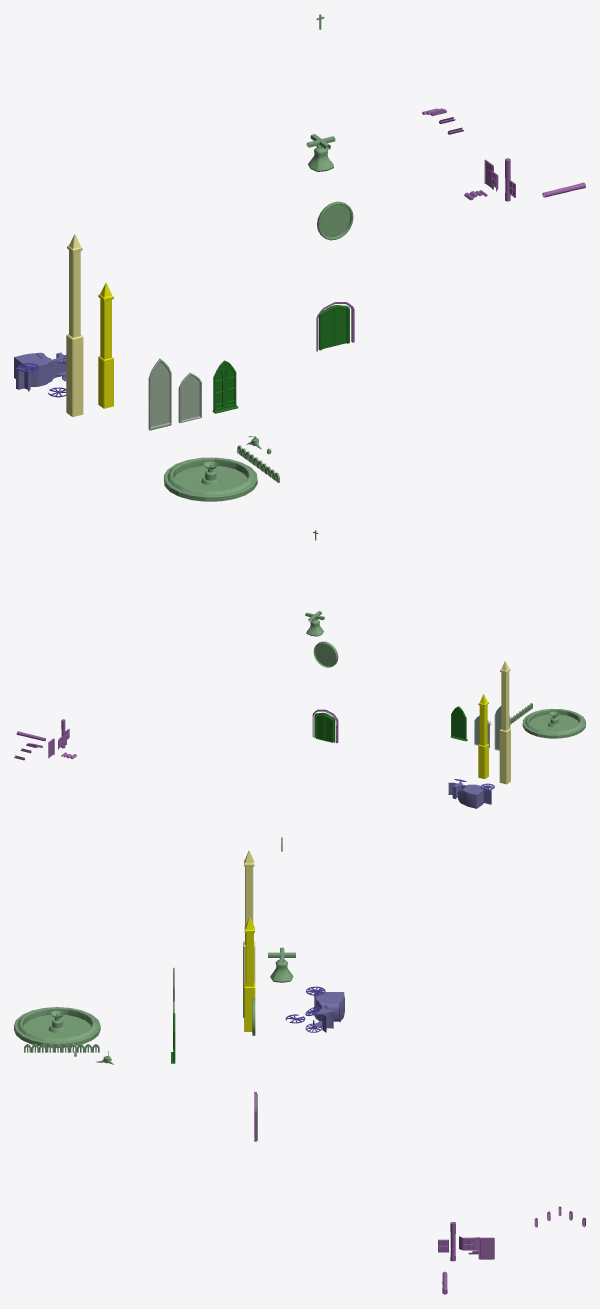
The model's file is Assets.fbx.
The picture shows the model from 3 angles, top to bottom: view 1: azimuth 30°, elevation 25°; view 2: azimuth 150°, elevation 25°; view 3: azimuth 270°, elevation 25°; orthographic projection. The views are drawn at different scales.
Visible parts, largest first — view 1: Fountain, Big_Pillar, Pillar_Small, Curch_window4, Body, ChurchClock, Curch_windowSmallStainedGlass, Curch_window1; view 2: Fountain, Big_Pillar, Body, Pillar_Small, ChurchClock; view 3: Fountain, Pillar_Small, Body, Big_Pillar.
Boxes of the visible parts, <box> form: Fountain: <box>164,457,257,501</box>; Big_Pillar: <box>66,234,83,416</box>; Pillar_Small: <box>98,282,113,408</box>; Curch_window4: <box>148,358,171,430</box>; Body: <box>14,352,66,389</box>; ChurchClock: <box>317,201,353,240</box>; Curch_windowSmallStainedGlass: <box>178,372,201,422</box>; Curch_window1: <box>212,360,238,413</box>; Fountain: <box>522,708,585,738</box>; Big_Pillar: <box>499,661,510,784</box>; Body: <box>448,782,491,808</box>; Pillar_Small: <box>478,694,488,778</box>; ChurchClock: <box>313,641,338,667</box>; Fountain: <box>14,1007,100,1047</box>; Pillar_Small: <box>244,916,255,1031</box>; Body: <box>312,988,344,1032</box>; Big_Pillar: <box>243,850,255,1017</box>.
Size of the model in its own units: 63.11 by 30.8 by 53.46.
